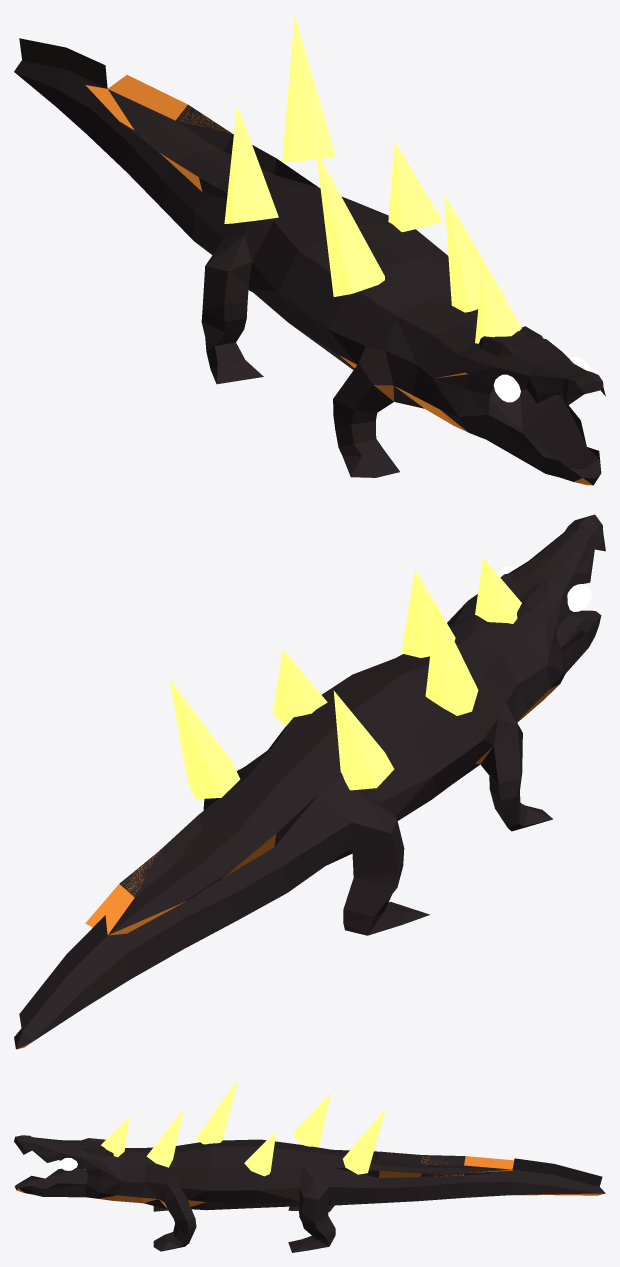
File: LavaSalamander.fbx
3 views of the same model, one above another, from view 1: azimuth 30°, elevation 25°; view 2: azimuth 150°, elevation 25°; view 3: azimuth 270°, elevation 25° (orthographic). The views are drawn at different scales.
Parts seen in each view (by area): view 1: Body, Glow_ff781e, Tail1, Head, LegFL, Glow_fff078; view 2: Body, Tail1, Glow_ff781e, Head, LegBL, LegFL; view 3: Body, Tail1, Glow_ff781e, Head, LegFR, LegBR.
Boxes of the visible parts, x1,y1,x2,y2 form: Body: (193, 158, 522, 430); Glow_ff781e: (224, 15, 521, 343); Tail1: (14, 38, 276, 240); Head: (433, 326, 605, 485); LegFL: (201, 286, 423, 477); Glow_fff078: (493, 357, 591, 402); Body: (199, 601, 564, 892); Tail1: (14, 815, 287, 1049); Glow_ff781e: (169, 558, 521, 799); Head: (456, 514, 605, 697); LegBL: (306, 822, 406, 935); LegFL: (384, 726, 552, 924); Body: (100, 1139, 379, 1222); Tail1: (376, 1151, 605, 1203); Glow_ff781e: (101, 1078, 385, 1176); Head: (14, 1135, 121, 1200); LegFR: (144, 1196, 316, 1252); LegBR: (303, 1187, 374, 1250).
Size of the model in its own units: 1.06 by 1.25 by 5.
Materials: 3 (1 with a texture image).
